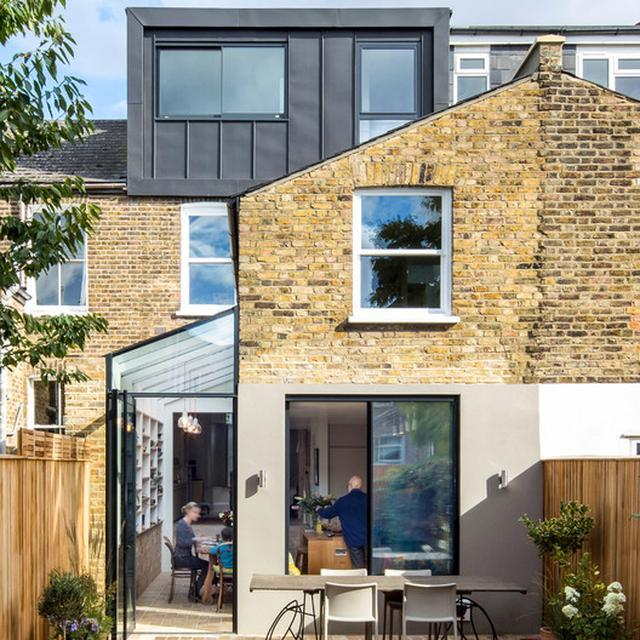building: (12, 8, 640, 622)
